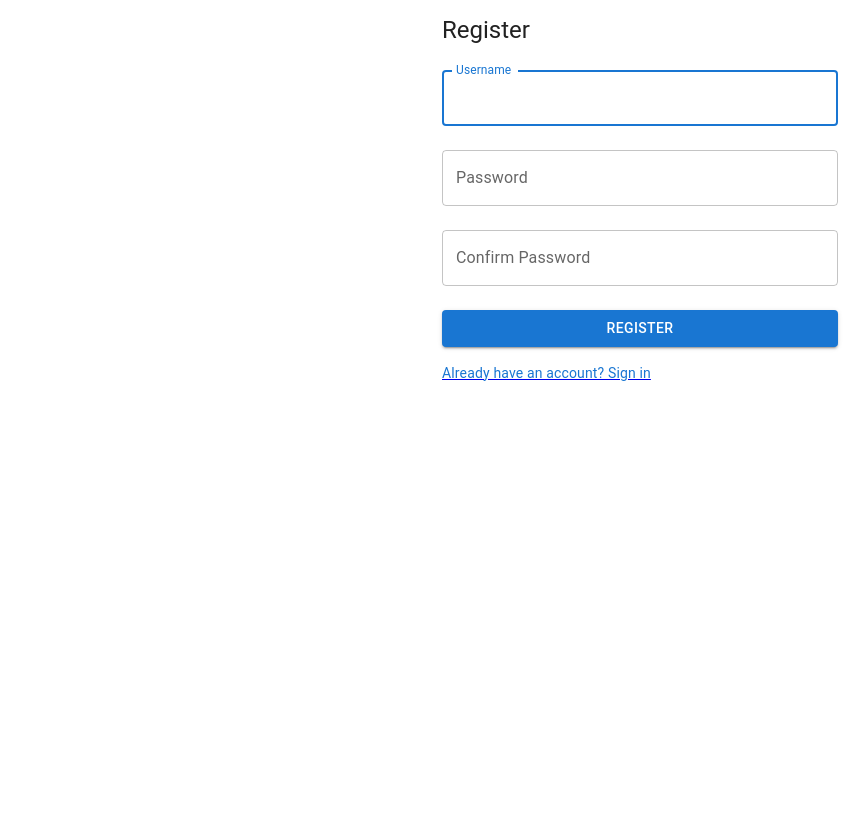
Test case: RegisterForm › shows error message on server error
The width and height of the screenshot is (856, 818).
Expected: the heading "Register" is shown, [442,16,530,44]
Type "test" into the field labelled "Username" at (640, 98), box [442,70,838,126]
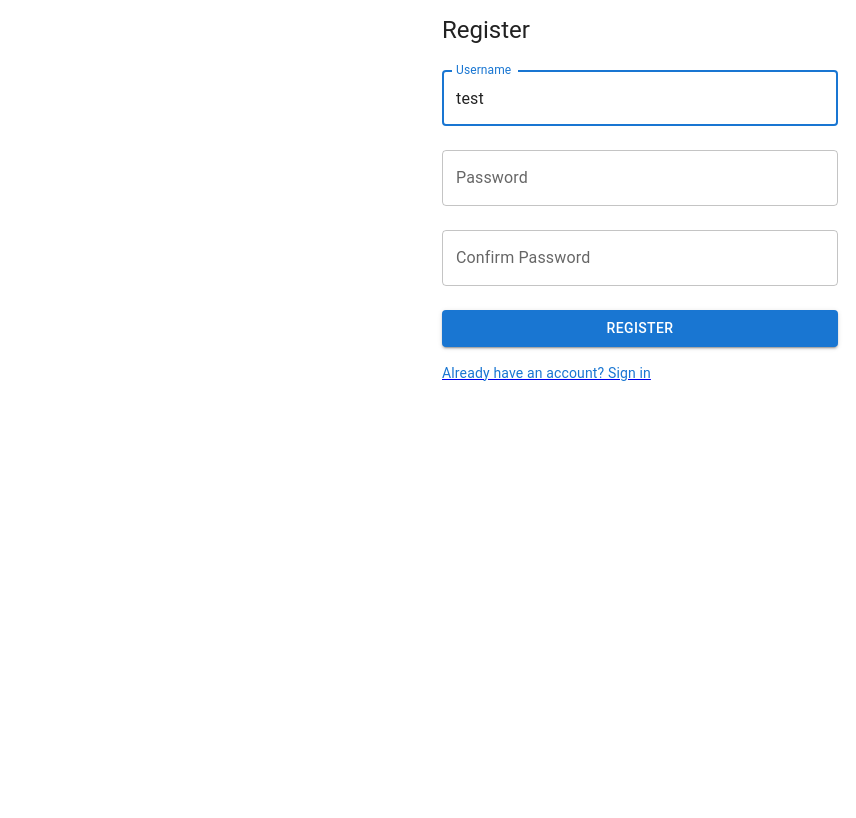
Type "password" into the password field labelled "Password" at (640, 178), box [442,150,838,206]
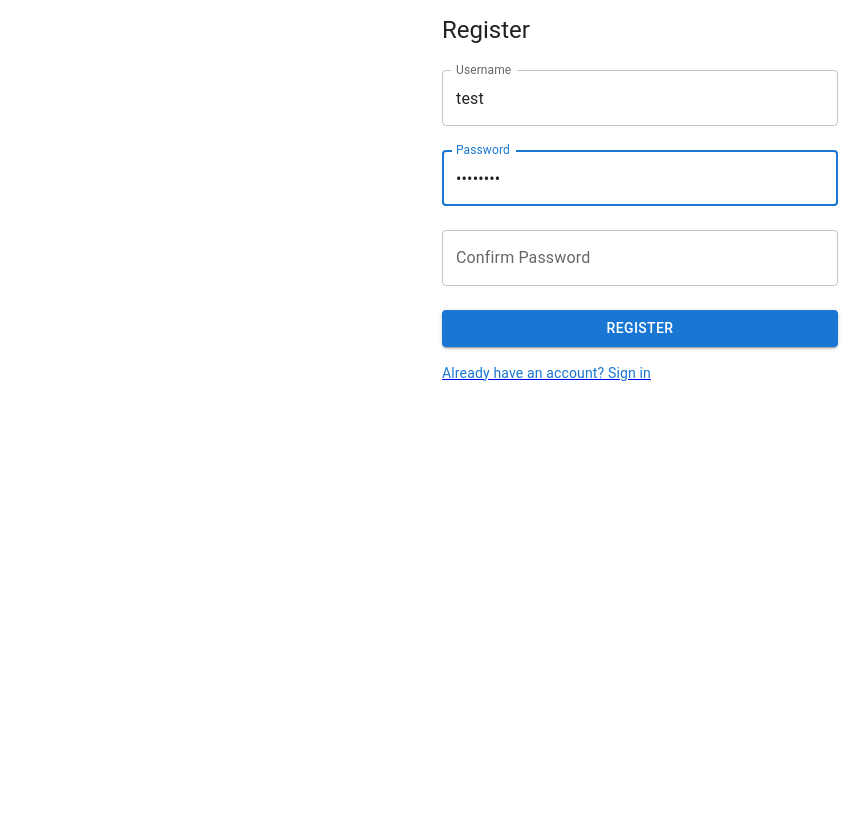
Type "password" into the password field labelled "Confirm Password" at (640, 258), box [442,230,838,286]
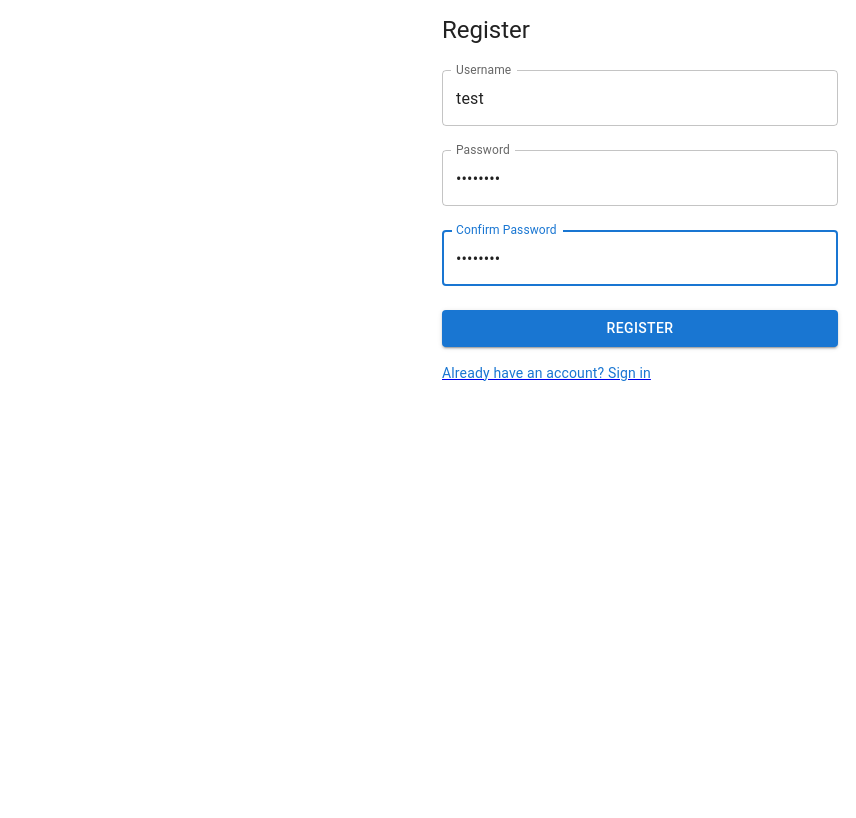
Click the button "Register" at (640, 328), box [442,310,838,346]
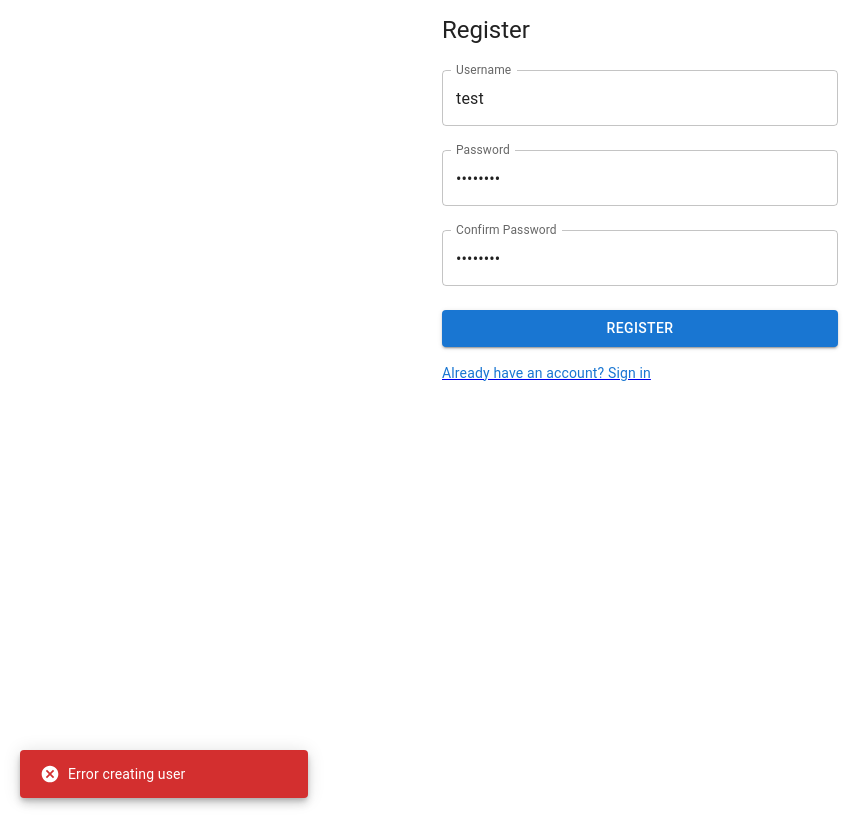
Result: the text "Error creating user" is shown at [40,764,186,784]
